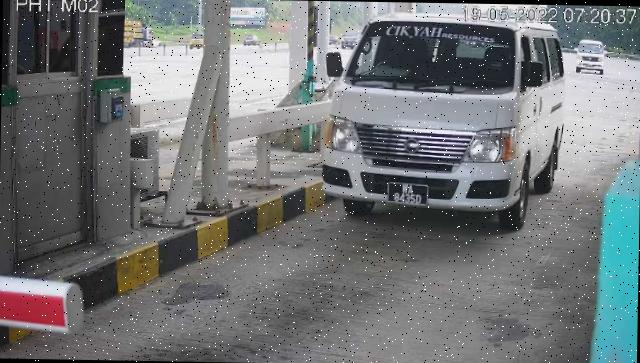License_Plate: (388, 181, 431, 208)
van: (322, 13, 569, 232)
